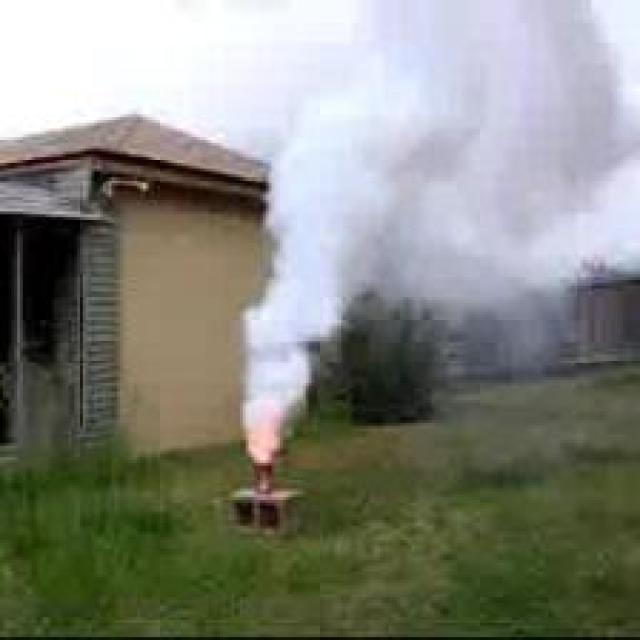Smoke: (243, 8, 623, 460)
